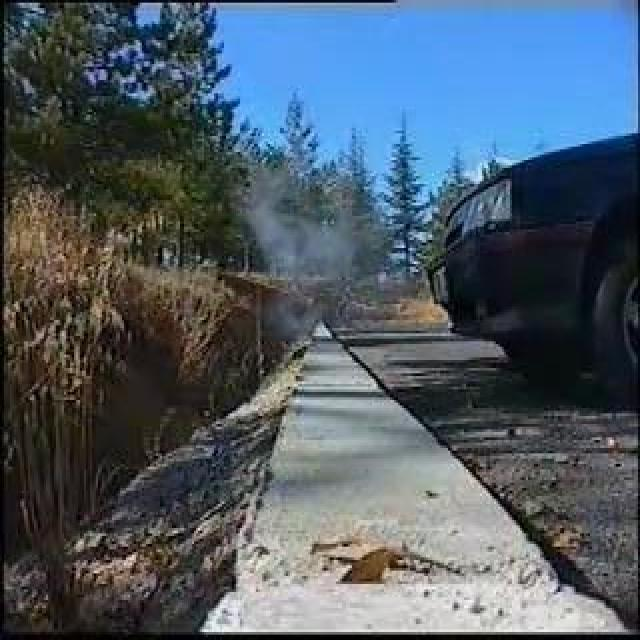Smoke: (243, 185, 339, 338)
